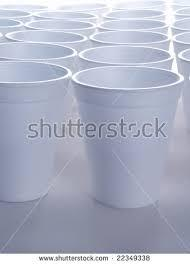Plastic cup: (2, 5, 189, 227)
